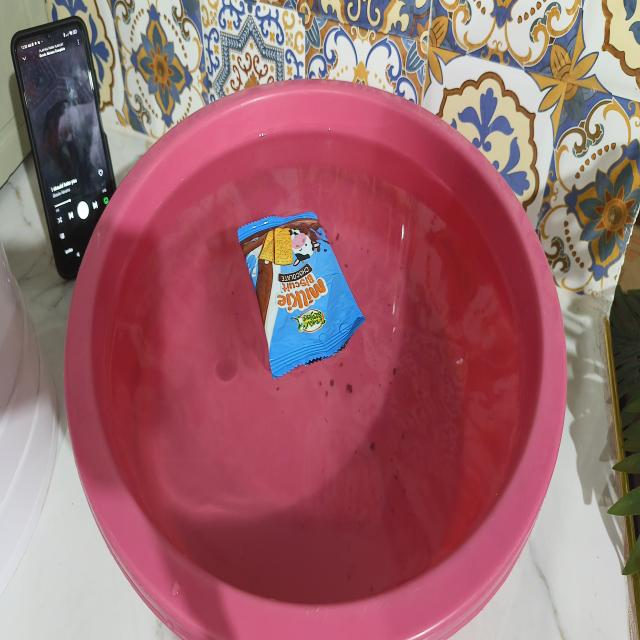Plastic Wrapper: (238, 213, 365, 377)
